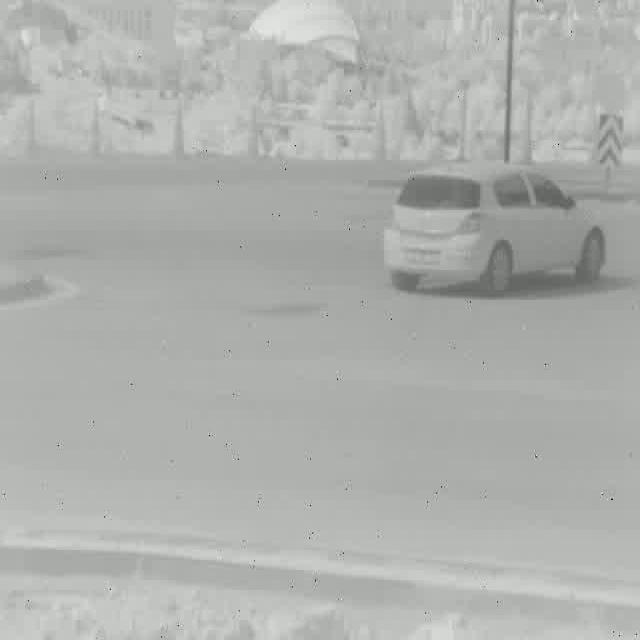Car: (379, 163, 602, 283)
